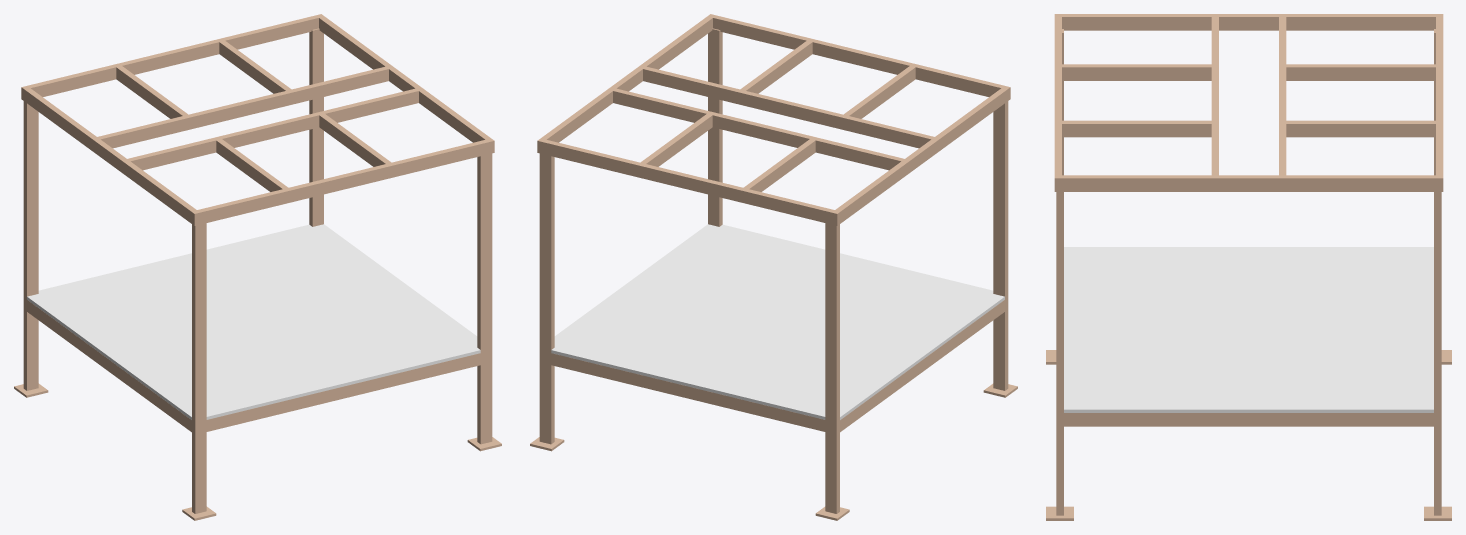
File: AgilusStructure.fbx
3 views of the same model, side by side, from view 1: azimuth 30°, elevation 25°; view 2: azimuth 150°, elevation 25°; view 3: azimuth 270°, elevation 25° (orthographic). The views are drawn at different scales.
Visible parts, largest first — view 1: Cube, Cube.014, Cube.002, Cube.009, Cube.001, Cube.003, Cube.012, Cube.013, Cube.005, Cube.011, Cube.015, Cube.004 (+5 smaller); view 2: Cube, Cube.013, Cube.004, Cube.012, Cube.003, Cube.001, Cube.009, Cube.014, Cube.006, Cube.011, Cube.015, Cube.002 (+5 smaller); view 3: Cube, Cube.015, Cube.011, Cube.008, Cube.016, Cube.017, Cube.002, Cube.004, Cube.010, Cube.018, Cube.009, Cube.012 (+2 smaller).
Part boxes in pixels (x1,y1,x2,y2): Cube: [27, 224, 480, 419]; Cube.014: [197, 140, 488, 224]; Cube.002: [477, 153, 492, 444]; Cube.009: [97, 66, 388, 148]; Cube.001: [192, 223, 206, 513]; Cube.003: [23, 101, 38, 390]; Cube.012: [127, 88, 418, 170]; Cube.013: [27, 15, 318, 96]; Cube.005: [206, 353, 480, 431]; Cube.011: [21, 86, 200, 225]; Cube.015: [316, 14, 494, 153]; Cube.004: [309, 28, 323, 226]; Cube: [551, 224, 1004, 419]; Cube.013: [543, 140, 834, 224]; Cube.004: [539, 153, 554, 444]; Cube.012: [643, 66, 934, 148]; Cube.003: [825, 223, 839, 513]; Cube.001: [993, 101, 1008, 390]; Cube.009: [613, 88, 904, 170]; Cube.014: [713, 15, 1004, 96]; Cube.006: [551, 353, 825, 431]; Cube.011: [831, 86, 1010, 225]; Cube.015: [537, 14, 715, 153]; Cube.002: [708, 28, 722, 226]; Cube: [1064, 247, 1433, 412]; Cube.015: [1054, 175, 1443, 191]; Cube.011: [1054, 14, 1443, 30]; Cube.008: [1064, 413, 1433, 426]; Cube.016: [1062, 120, 1211, 137]; Cube.017: [1286, 120, 1435, 137]; Cube.002: [1056, 192, 1063, 515]; Cube.004: [1434, 192, 1441, 515]; Cube.010: [1062, 64, 1211, 80]; Cube.018: [1286, 64, 1435, 80]; Cube.009: [1279, 17, 1286, 175]; Cube.012: [1211, 17, 1218, 175].
Bounding box in the file's own units: 213 × 201 × 217.
